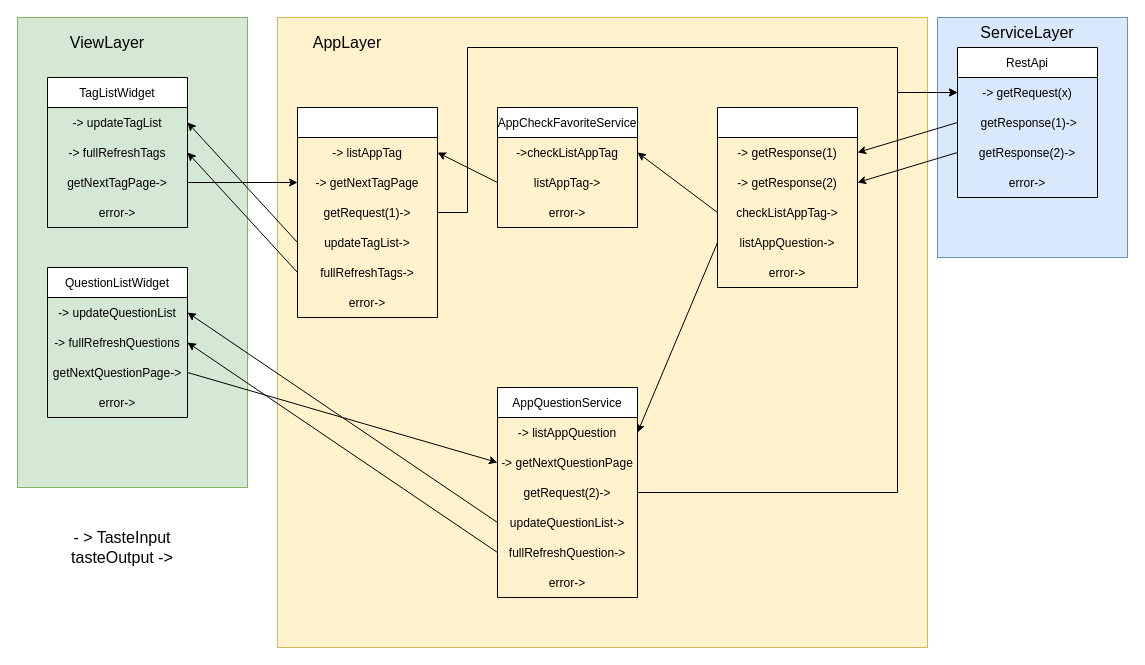
Image size: 1145x665. Some labels were removed from this diagram. Here are the shapes that lost their labels. From the top down, the box of each, then its label:
(296, 106, 438, 318): AppTagsService
(716, 106, 858, 288): AppDataMapper
